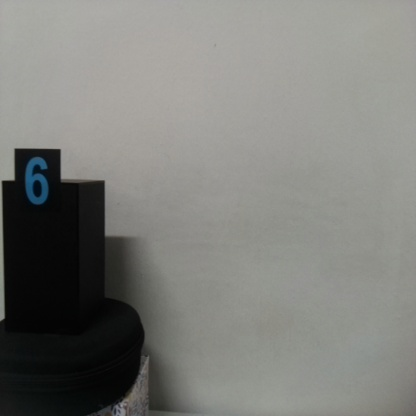id_6: (14, 149, 61, 222)
